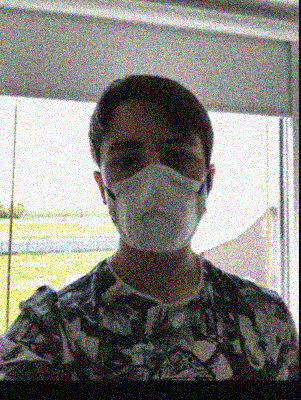with_mask: (97, 124, 212, 253)
